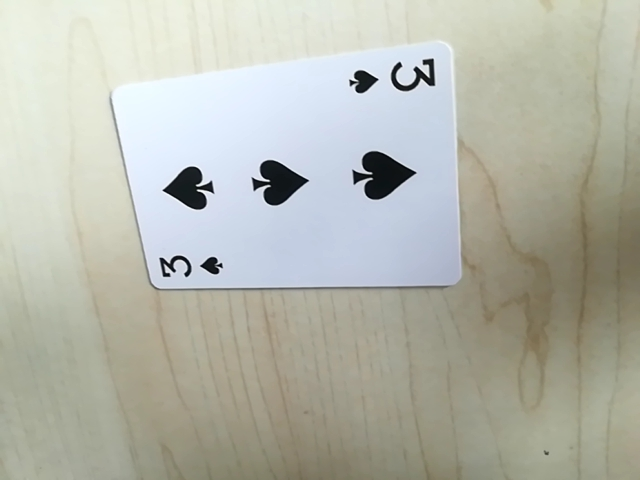ht 3: (345, 52, 443, 102), (152, 247, 229, 287)
